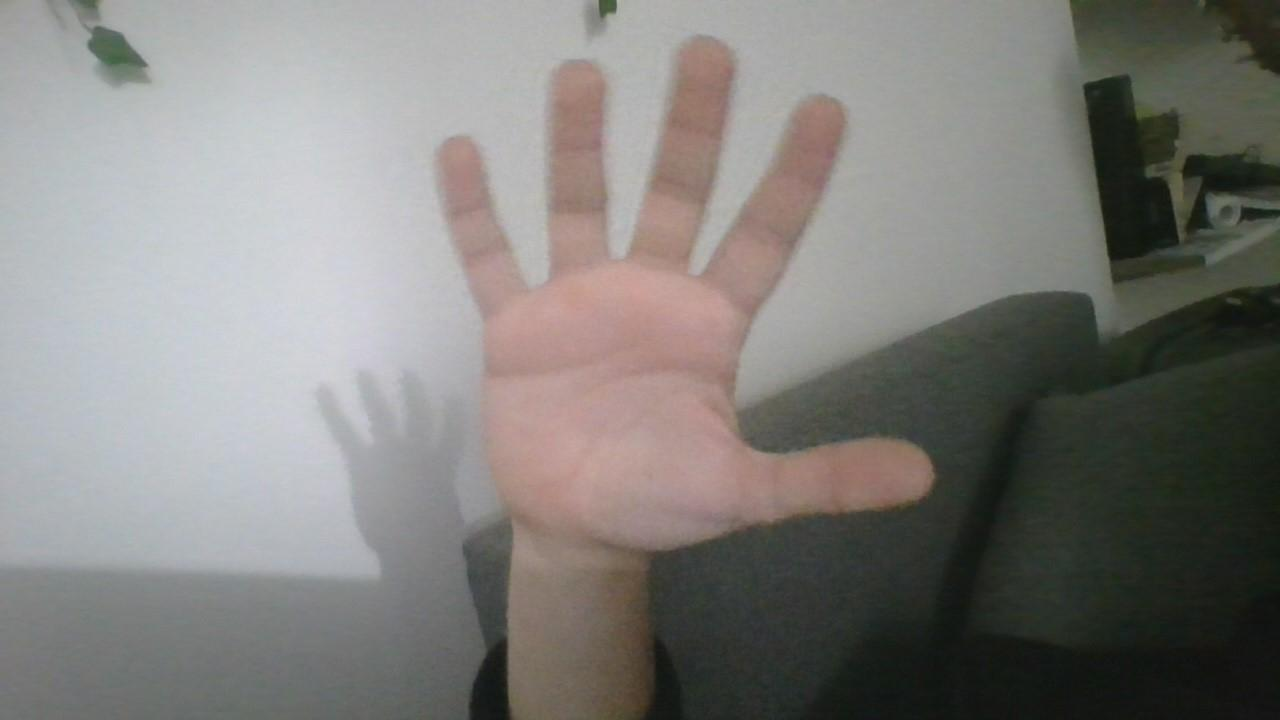hi: (403, 17, 944, 569)
